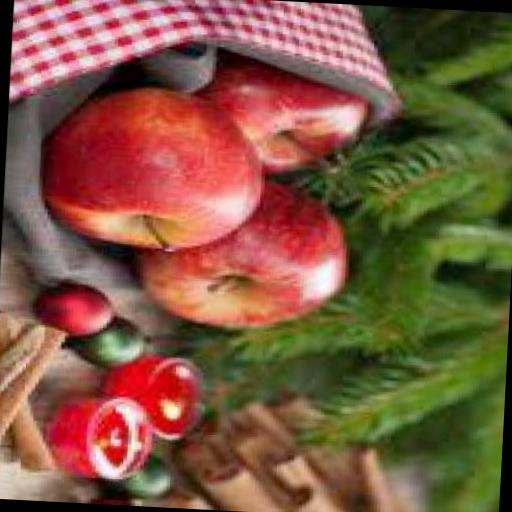biodegradable: (205, 206, 512, 445), (301, 2, 512, 236), (38, 78, 271, 254), (129, 170, 356, 334), (171, 391, 408, 512), (198, 51, 372, 182), (385, 378, 504, 512)
